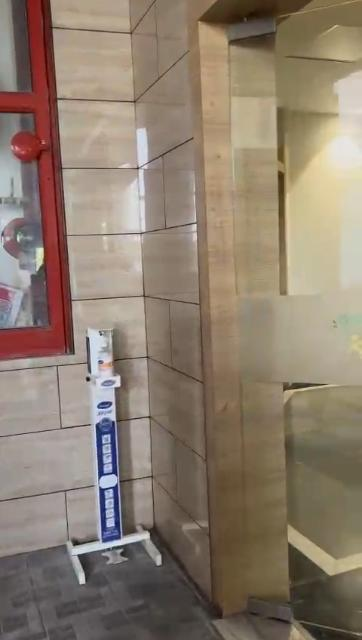floor: (0, 582, 196, 640)
wall: (120, 1, 204, 522), (74, 1, 150, 330), (0, 366, 72, 538)
